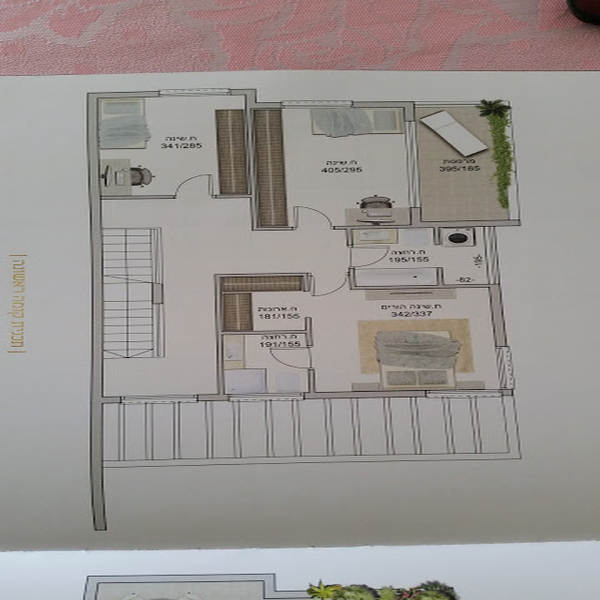door: (306, 271, 377, 300), (347, 241, 392, 273), (291, 203, 334, 236), (269, 345, 317, 370), (172, 173, 214, 201)
room: (303, 286, 516, 400), (243, 100, 422, 227), (85, 92, 260, 201)
wall: (85, 91, 107, 531), (215, 276, 226, 393), (491, 284, 509, 348), (419, 220, 519, 228), (307, 392, 428, 398), (91, 91, 159, 101), (356, 102, 416, 111), (201, 395, 232, 402)
window: (282, 99, 356, 110), (161, 90, 229, 101), (237, 393, 303, 403), (118, 396, 196, 404)
